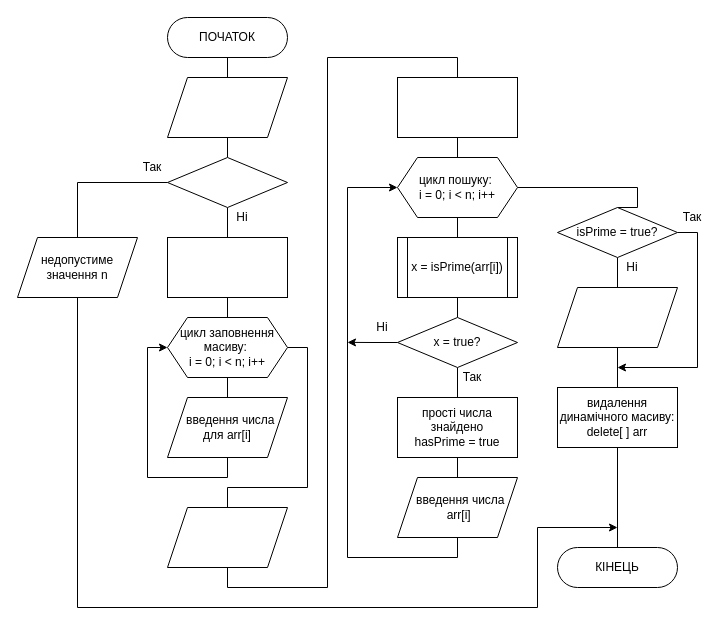
Some shapes in this 725 by 633 pixel diagram are drawn without their labels. The shapes that lost their labels are listed below. From the top down, each one's box as (x1, y1, x2, y2) in pixels, then its label:
(166, 76, 288, 138): ввести кількість чисел n
(396, 76, 518, 138): прапорець наявності простих чисел взагалі hasPrime = false
(166, 156, 288, 208): n <= 0
(166, 236, 288, 298): створення динамічного масиву arr[n]
(556, 286, 678, 348): прості числа не знайдено!
(166, 506, 288, 568): Визначаємо прості числа
